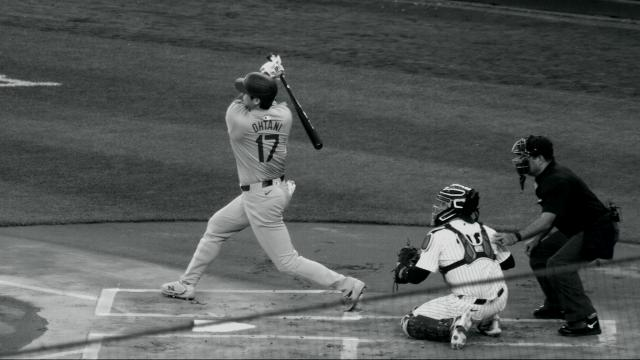baseball bat: (280, 75, 324, 149)
